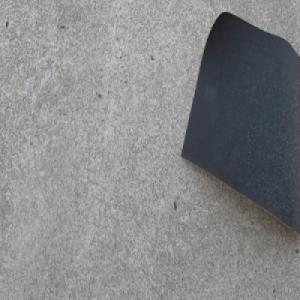PaintChip: (178, 10, 300, 234)
